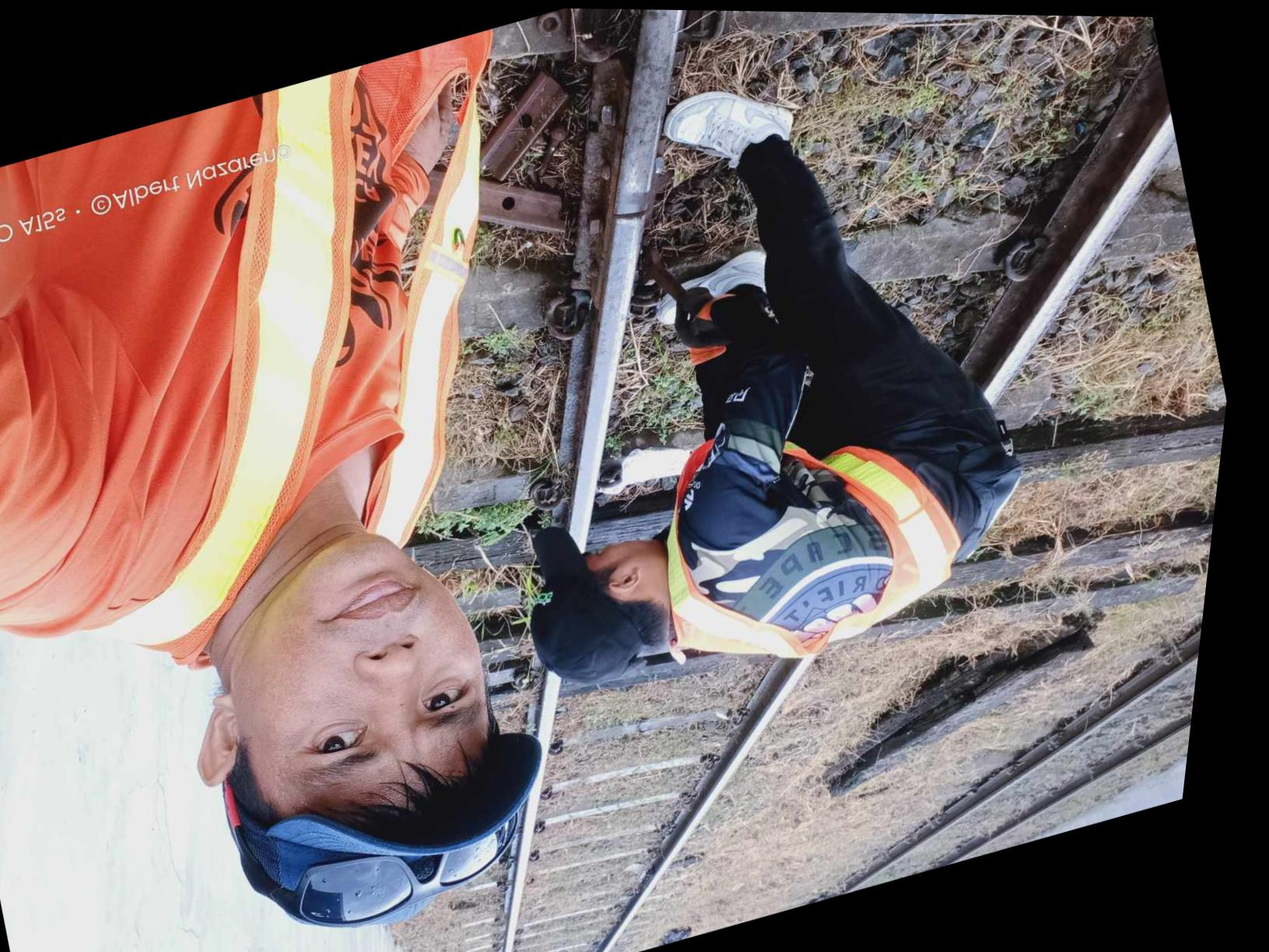person: (565, 152, 700, 272)
